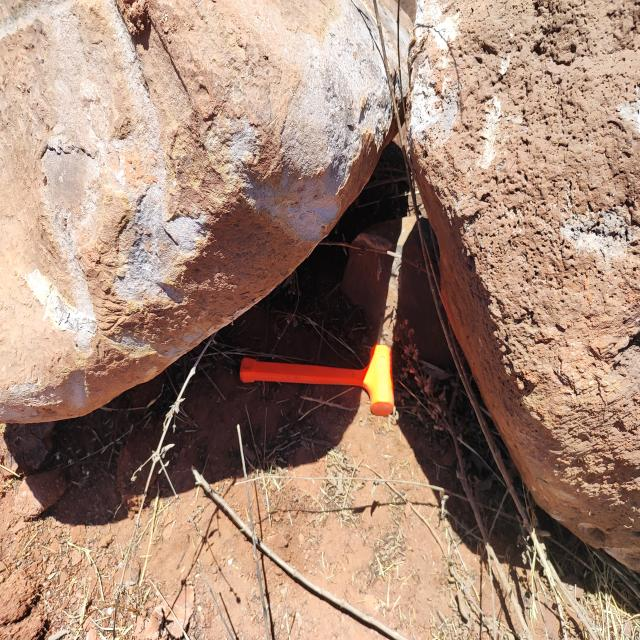Orange_hammer: (239, 342, 395, 417)
